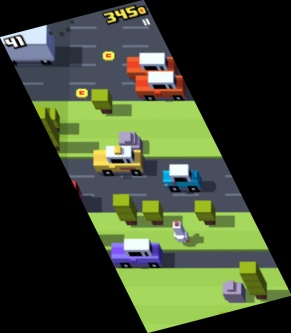car: (93, 144, 144, 176), (135, 72, 187, 101), (111, 239, 163, 267), (126, 53, 177, 79), (163, 164, 201, 193)
coin: (75, 86, 89, 99), (102, 50, 116, 63)
duck: (171, 221, 189, 243)
rock: (220, 280, 246, 303), (117, 130, 142, 149)
tree: (238, 261, 267, 299), (111, 193, 139, 225), (89, 89, 114, 113), (141, 201, 164, 225), (195, 201, 217, 225)
truck: (1, 24, 57, 63), (27, 177, 82, 211)
